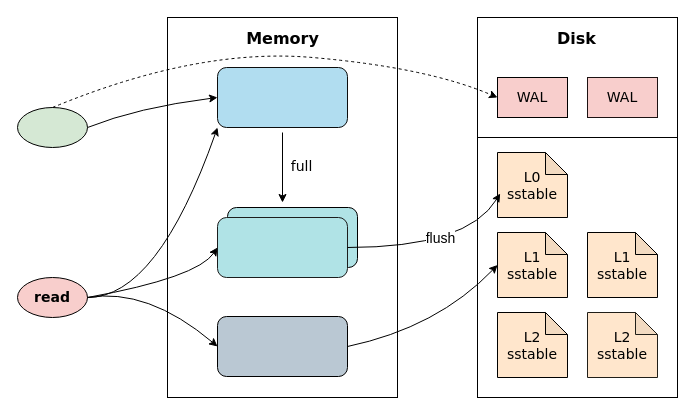
The diagram is 696 pixels wide and 415 high, and some of its shapes have lost their labels. The box of each missing label's shape, as (x1, y1, x2, y2) in pixels:
active memtable: (216, 66, 348, 128)
block cache: (216, 316, 348, 376)
immutable memtable: (216, 216, 348, 278)
write: (16, 106, 88, 148)
